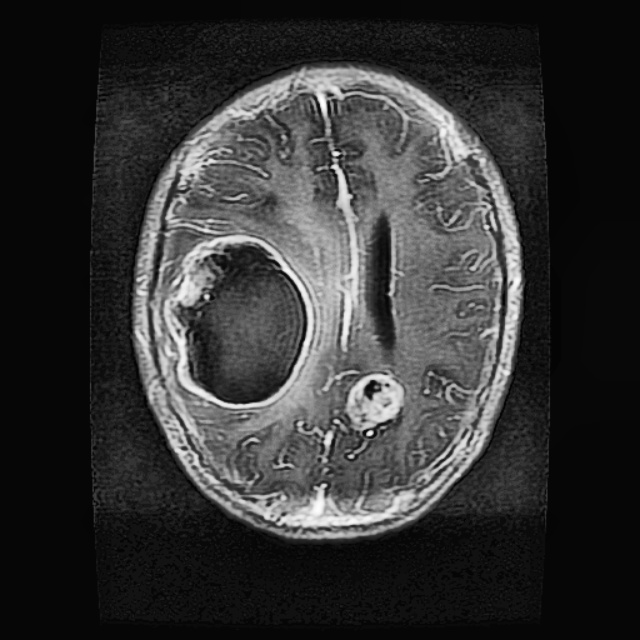Meningioma: (168, 238, 309, 403)
